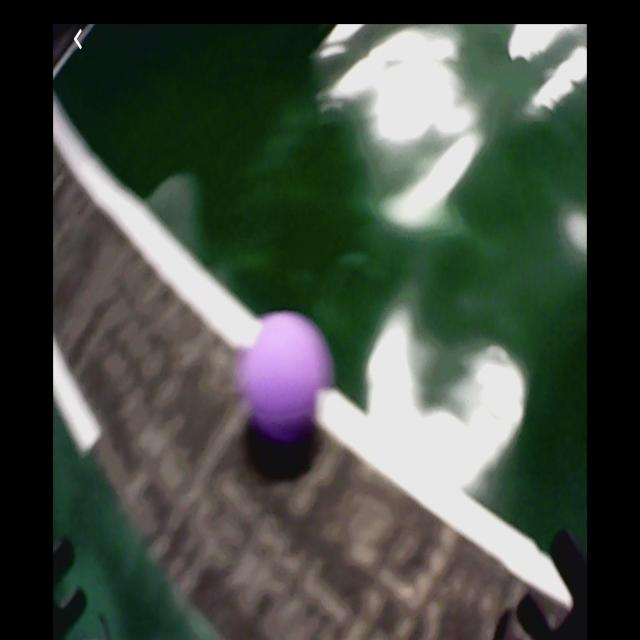ball: (248, 315, 327, 438)
